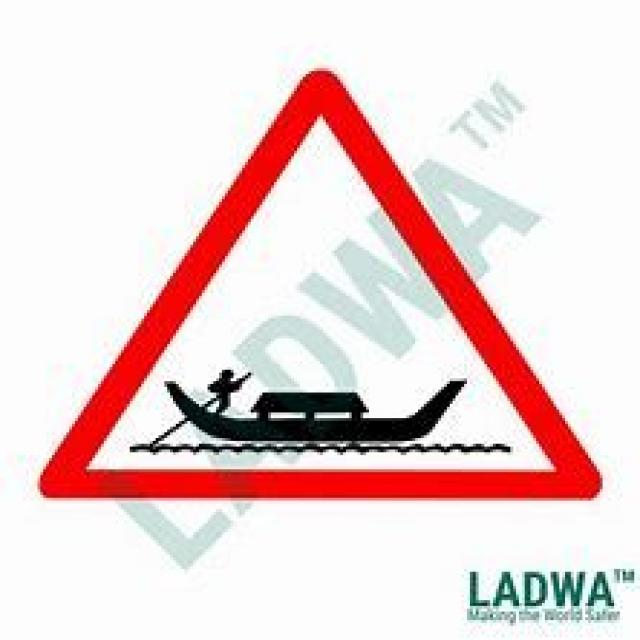FERRY: (35, 68, 602, 498)
